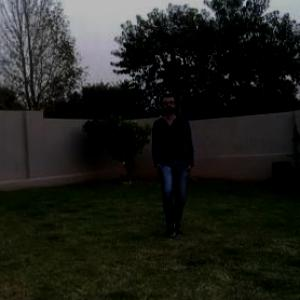follow: (149, 89, 200, 236)
